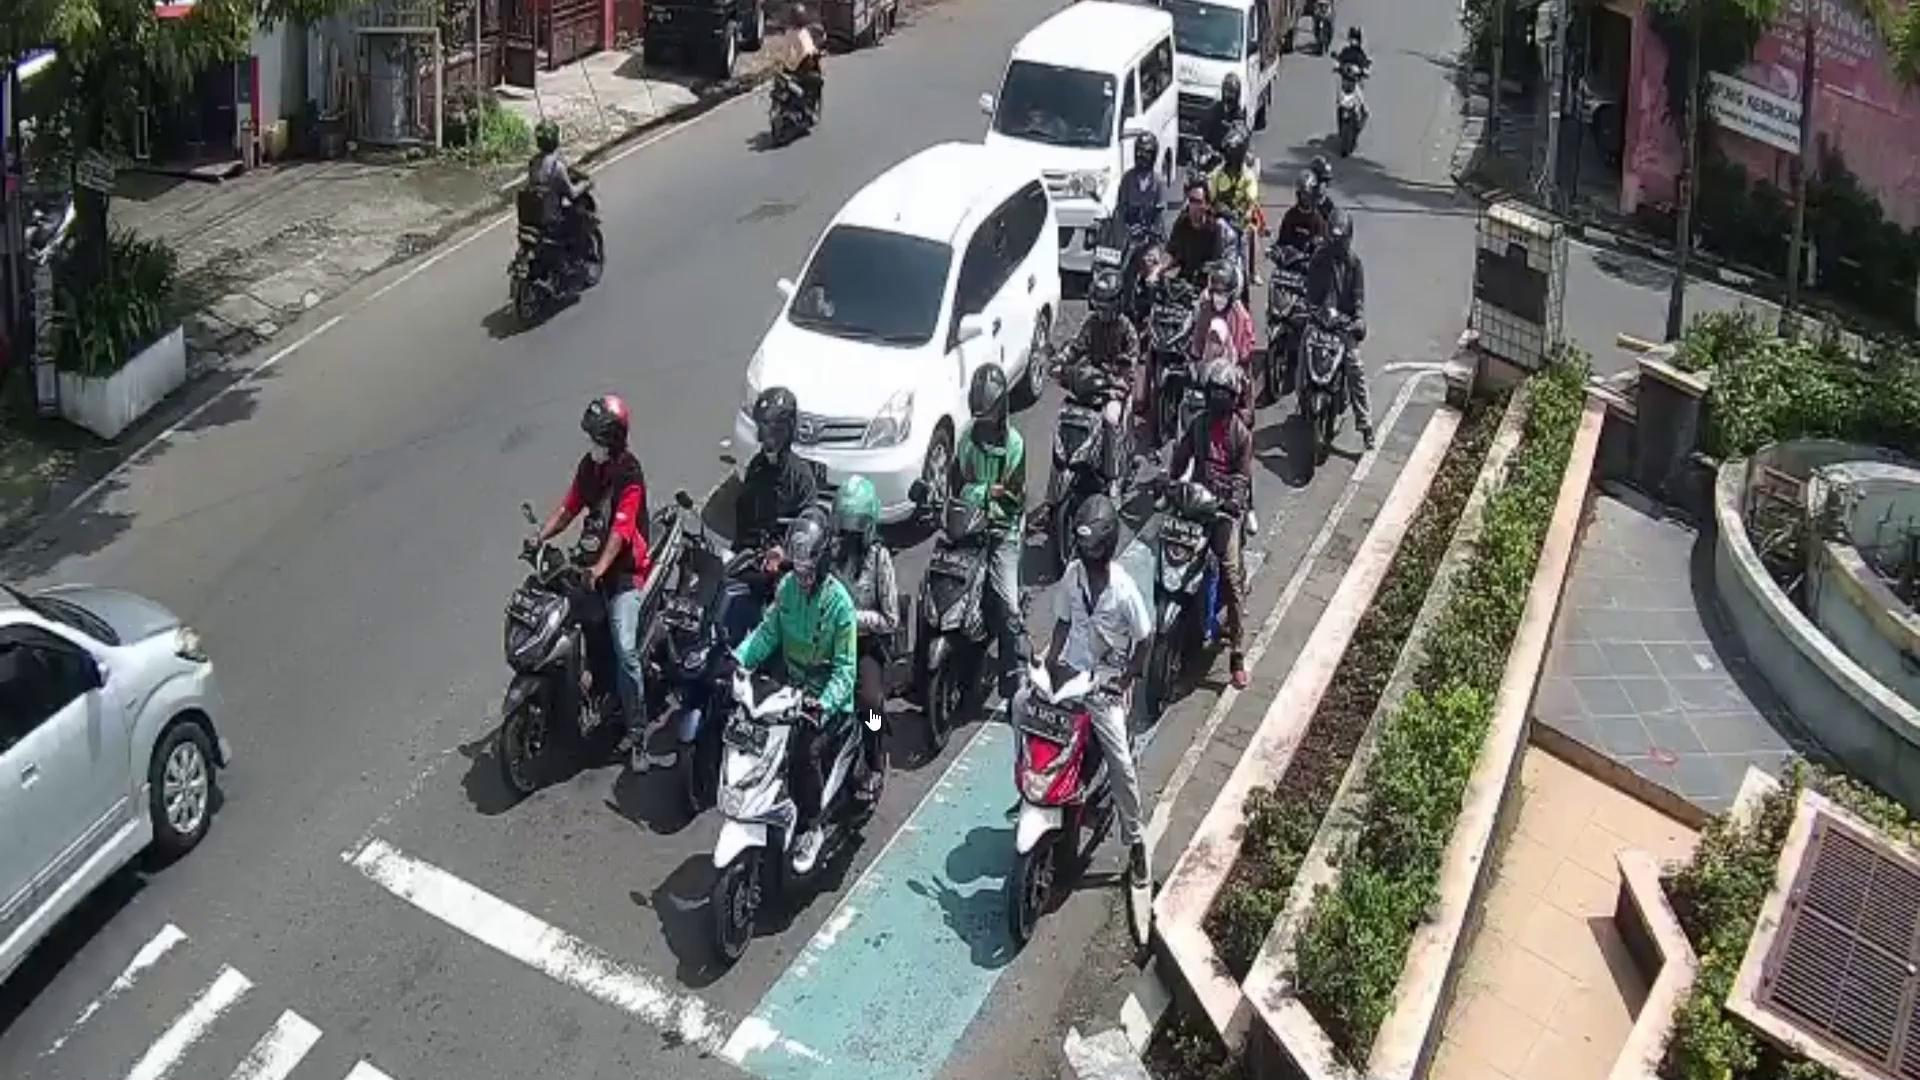car: (728, 137, 1062, 538), (0, 579, 232, 986), (989, 0, 1180, 273), (1163, 0, 1280, 141)
motorbike: (489, 501, 702, 800), (711, 669, 870, 959), (1013, 653, 1116, 936), (914, 501, 998, 753), (1149, 491, 1236, 724), (505, 170, 607, 324), (1056, 360, 1131, 513), (1303, 310, 1358, 465), (767, 67, 824, 150), (1337, 58, 1369, 157)
